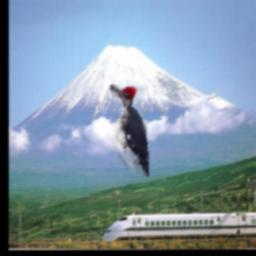Woodpecker: (110, 86, 149, 177)
